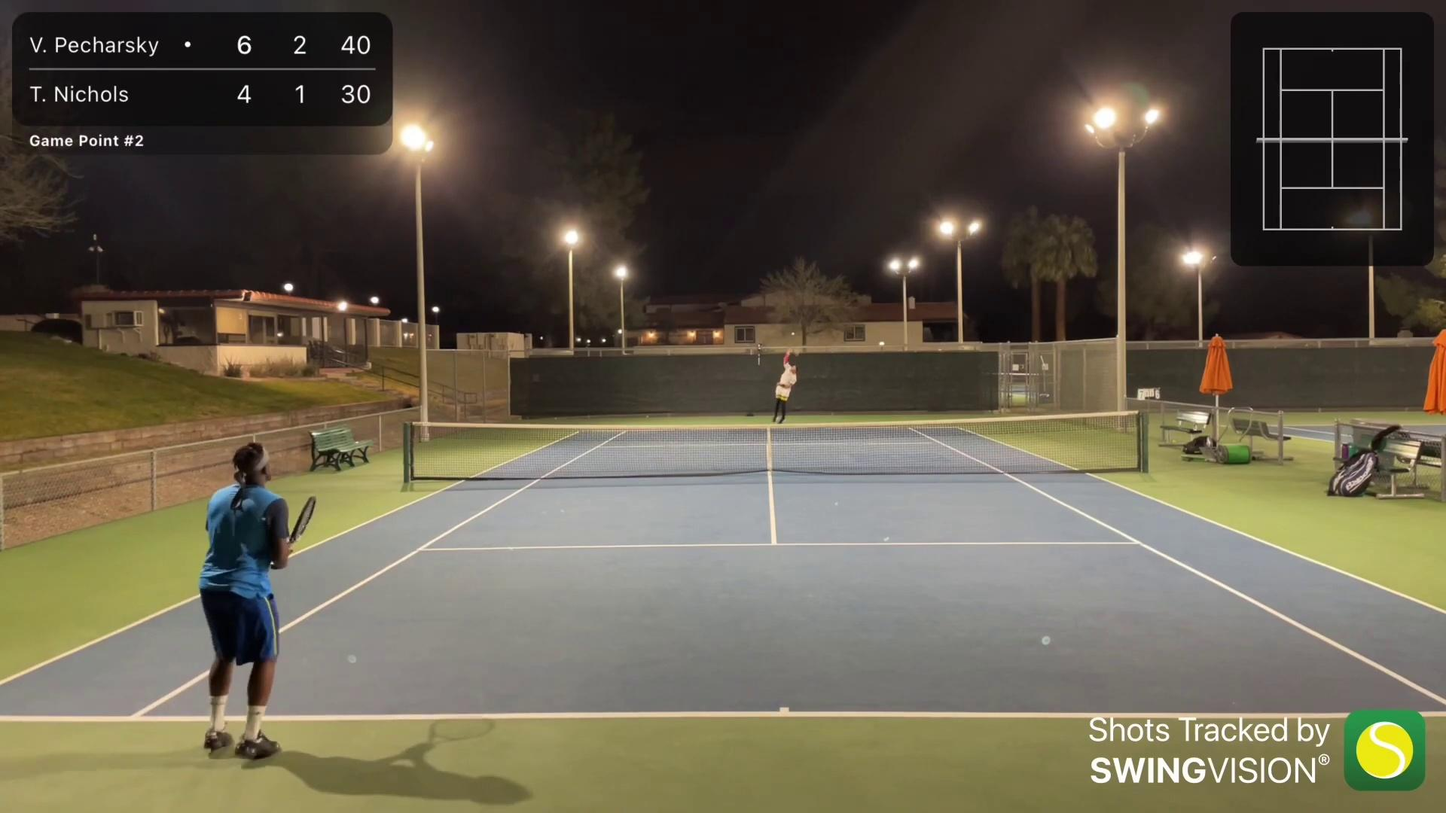ball: (790, 330, 796, 337)
